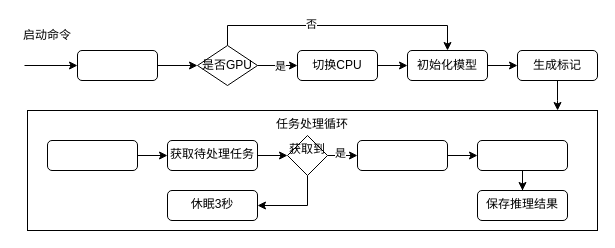
This 615x248 diagram has some shape labels left out. Here are the shapes that lost their labels. From the top down, the centre of each, then its label:
(117,65): 启动
(92,155): 获取redis链接
(402,155): 获取任务详情
(522,155): 调用推理接口
